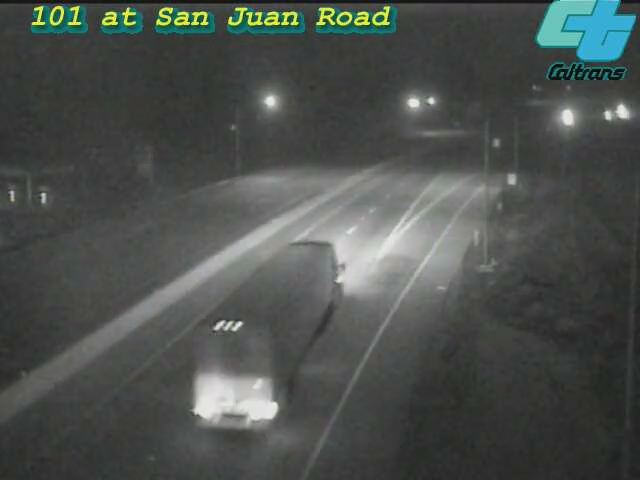vehicle: (236, 279, 316, 359), (585, 90, 635, 140), (539, 92, 589, 142), (595, 86, 640, 136)
